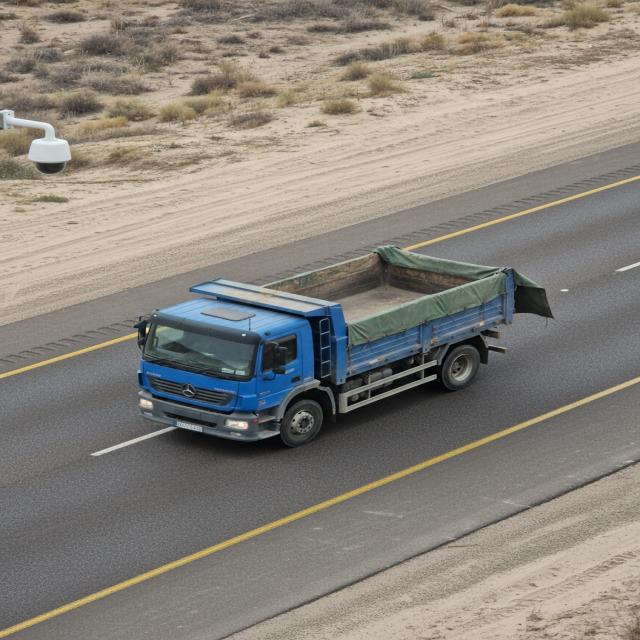Box: (178, 242, 556, 316)
Truck: (80, 236, 557, 442)
